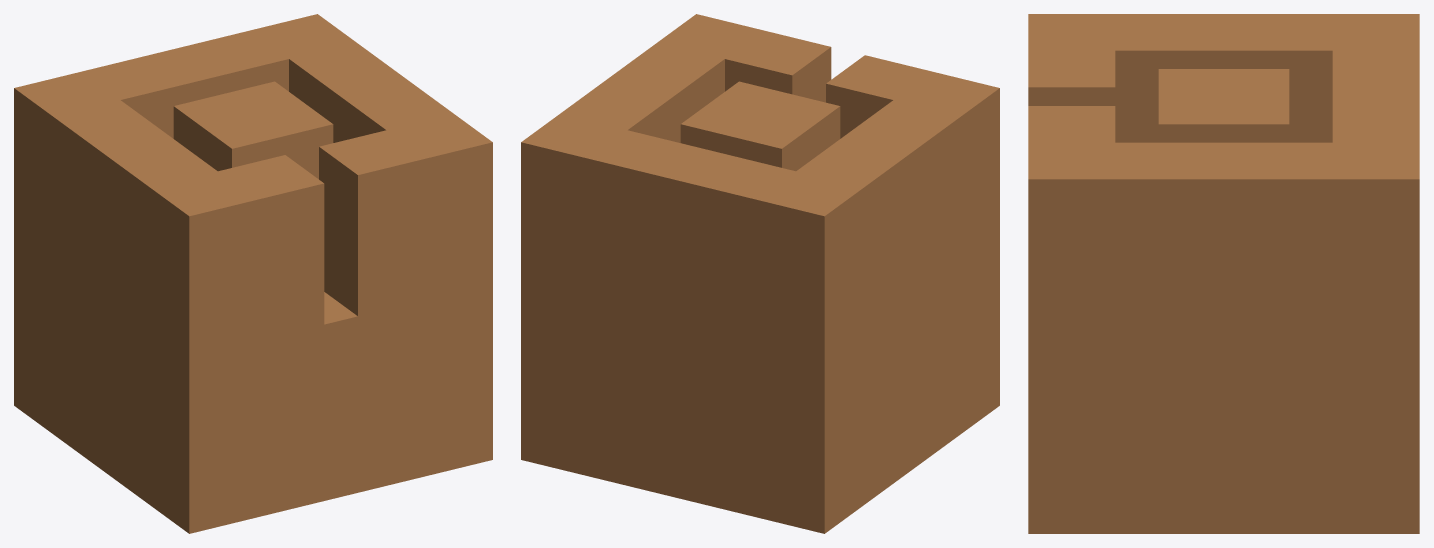
Rendered from Thin_Square_End_Model.fbx.
3 renders of one model, left to right at view 1: azimuth 30°, elevation 25°; view 2: azimuth 150°, elevation 25°; view 3: azimuth 270°, elevation 25°, orthographic. The views are drawn at different scales.
Parts seen in each view (by area): view 1: Cube; view 2: Cube; view 3: Cube.
Part boxes in pixels (<box>): Cube: <box>14,14,492,533</box>; Cube: <box>521,14,999,533</box>; Cube: <box>1028,14,1419,533</box>.
Size of the model in its own units: 100 by 100 by 100.
